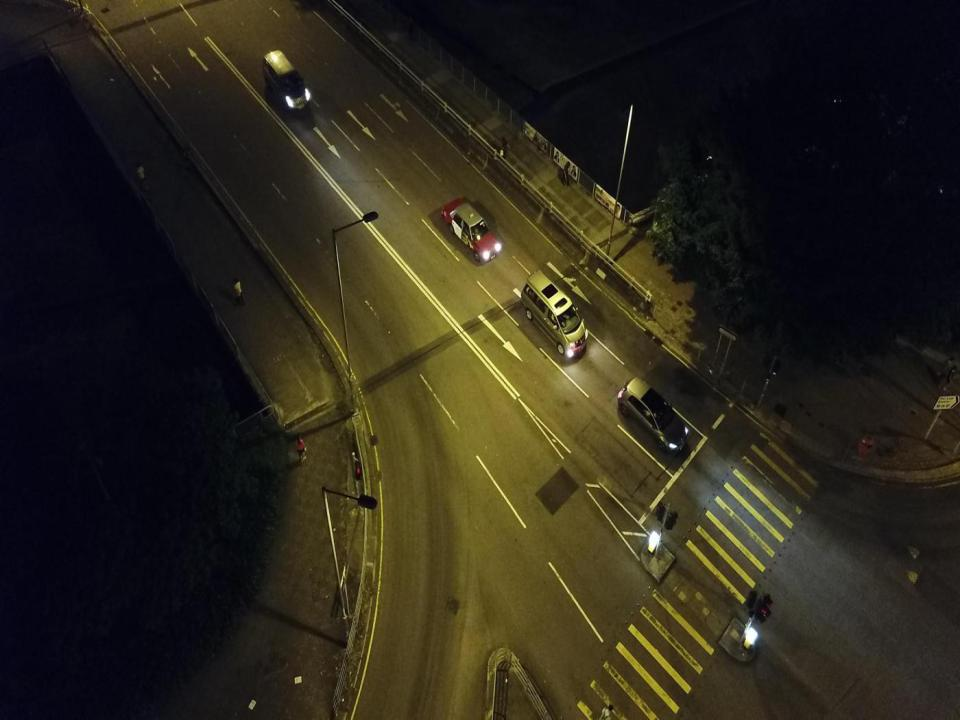car: (617, 376, 689, 455), (440, 198, 501, 262)
van: (520, 270, 588, 358), (263, 50, 311, 112)
